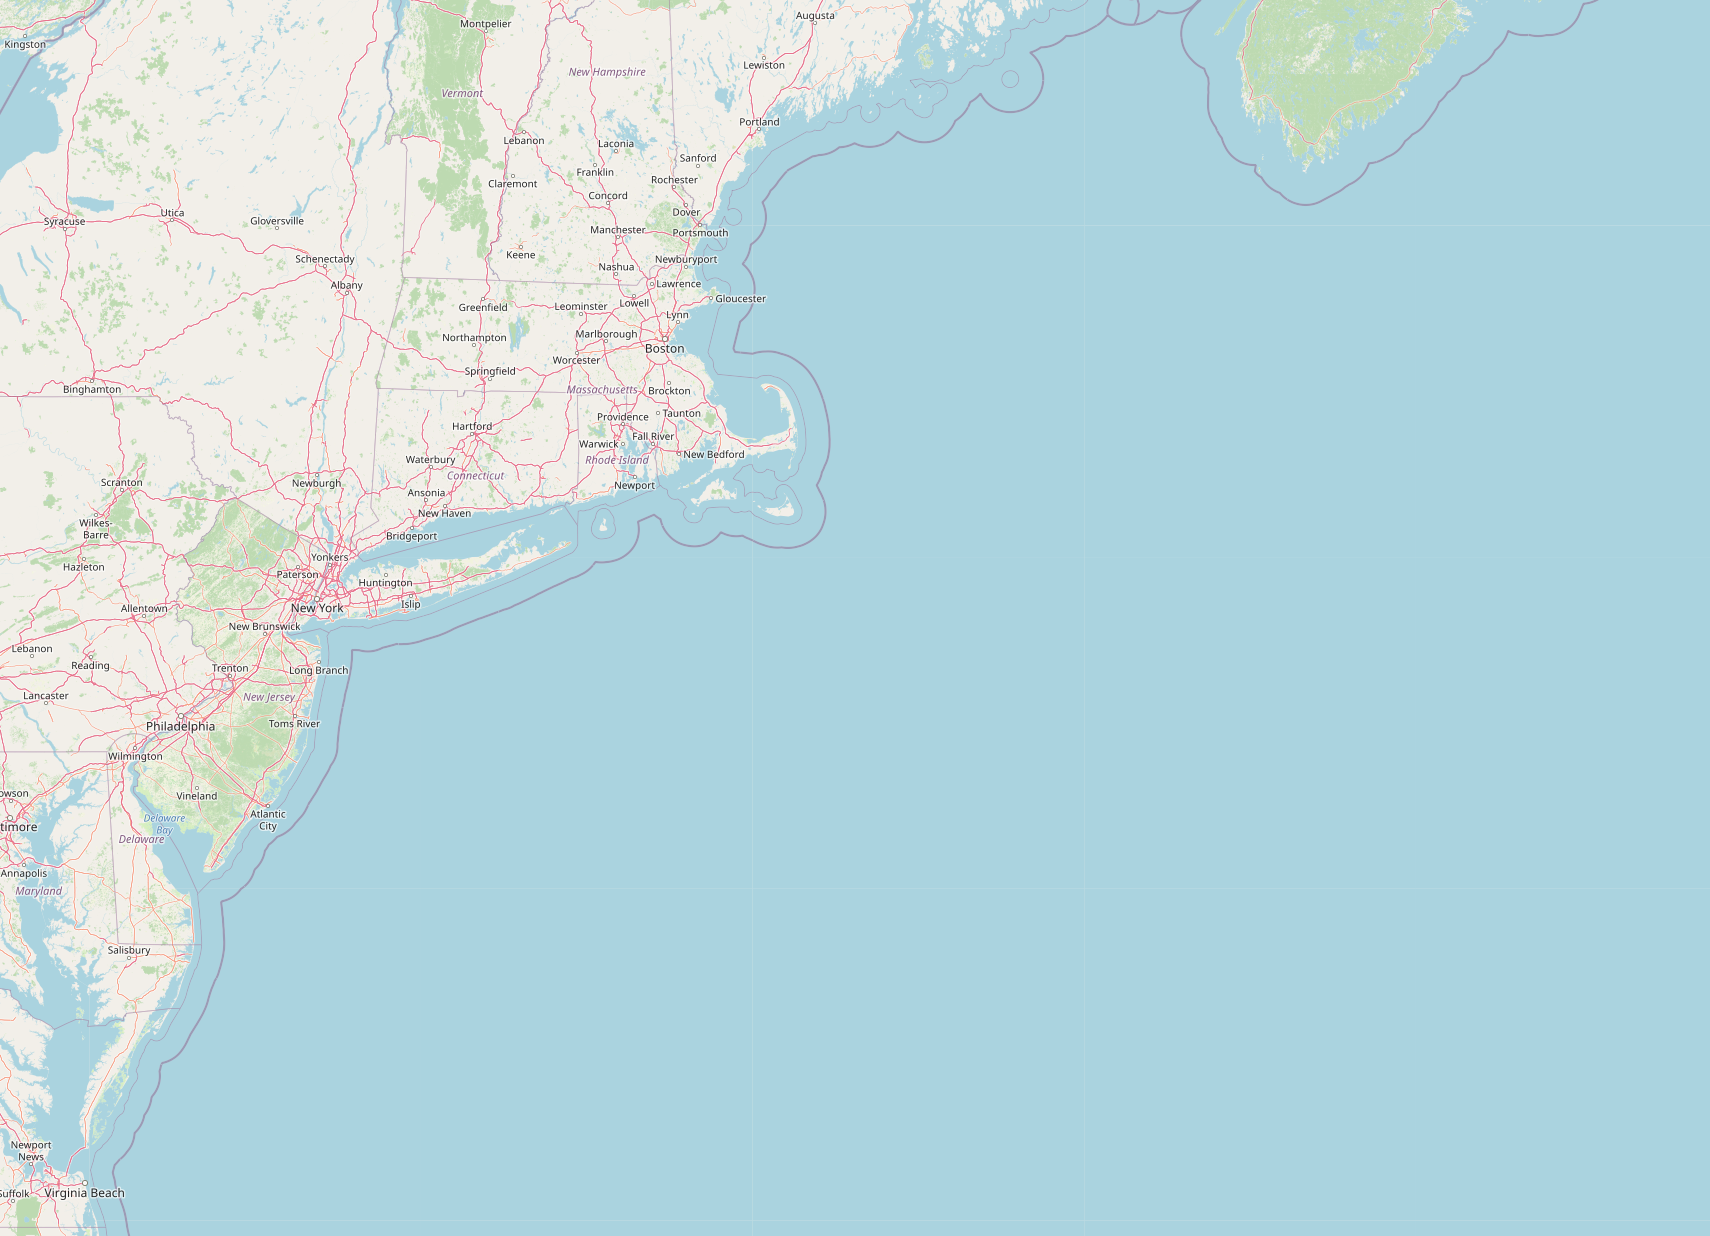

The page's visual inventory and layout, read from the dashboard file:
{"tool":"powerbi","page":{"name":"Page 1","canvas":[1280,720],"ordinal":0},"visuals":[{"type":"map","fields":{"Y":["geo.LAT"],"X":["geo.LON"]},"box":[11,0,1253,720],"z":0}]}

Visuals, with their boxes on the page's 1280x720 design canvas (x1, y1, x2, y2). These are canvas units, not pixel positions in the 1710x1236 screenshot, which may show the page scaled, cropped or inside an application window:
map - geo.LAT x geo.LON: box=[11, 0, 1264, 720]
